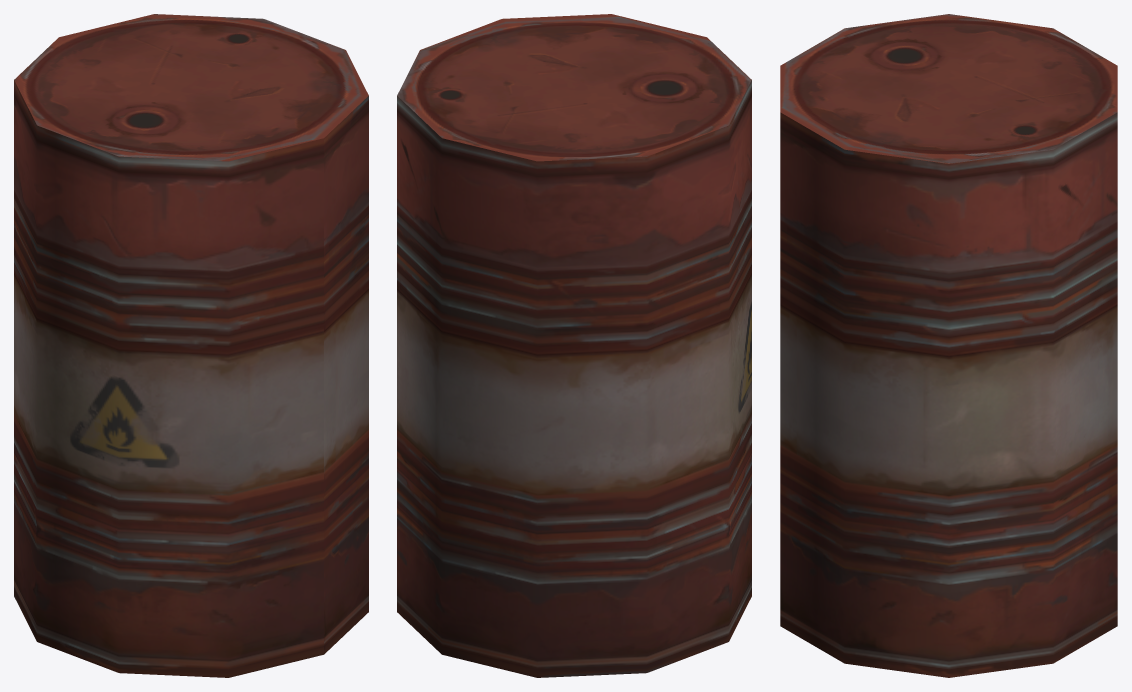
Rendered from OilBarrel1.FBX.
3 renders of one model, left to right at view 1: azimuth 30°, elevation 25°; view 2: azimuth 150°, elevation 25°; view 3: azimuth 270°, elevation 25°, orthographic.
Visible parts, largest first — view 1: Cylinder001; view 2: Cylinder001; view 3: Cylinder001.
Boxes of the visible parts, x1,y1,x2,y2 form: Cylinder001: [14, 14, 368, 677]; Cylinder001: [397, 14, 751, 677]; Cylinder001: [780, 14, 1117, 677].
Size of the model in its own units: 0.6689 by 1.07 by 0.6361.
1 material, 1 textured.
